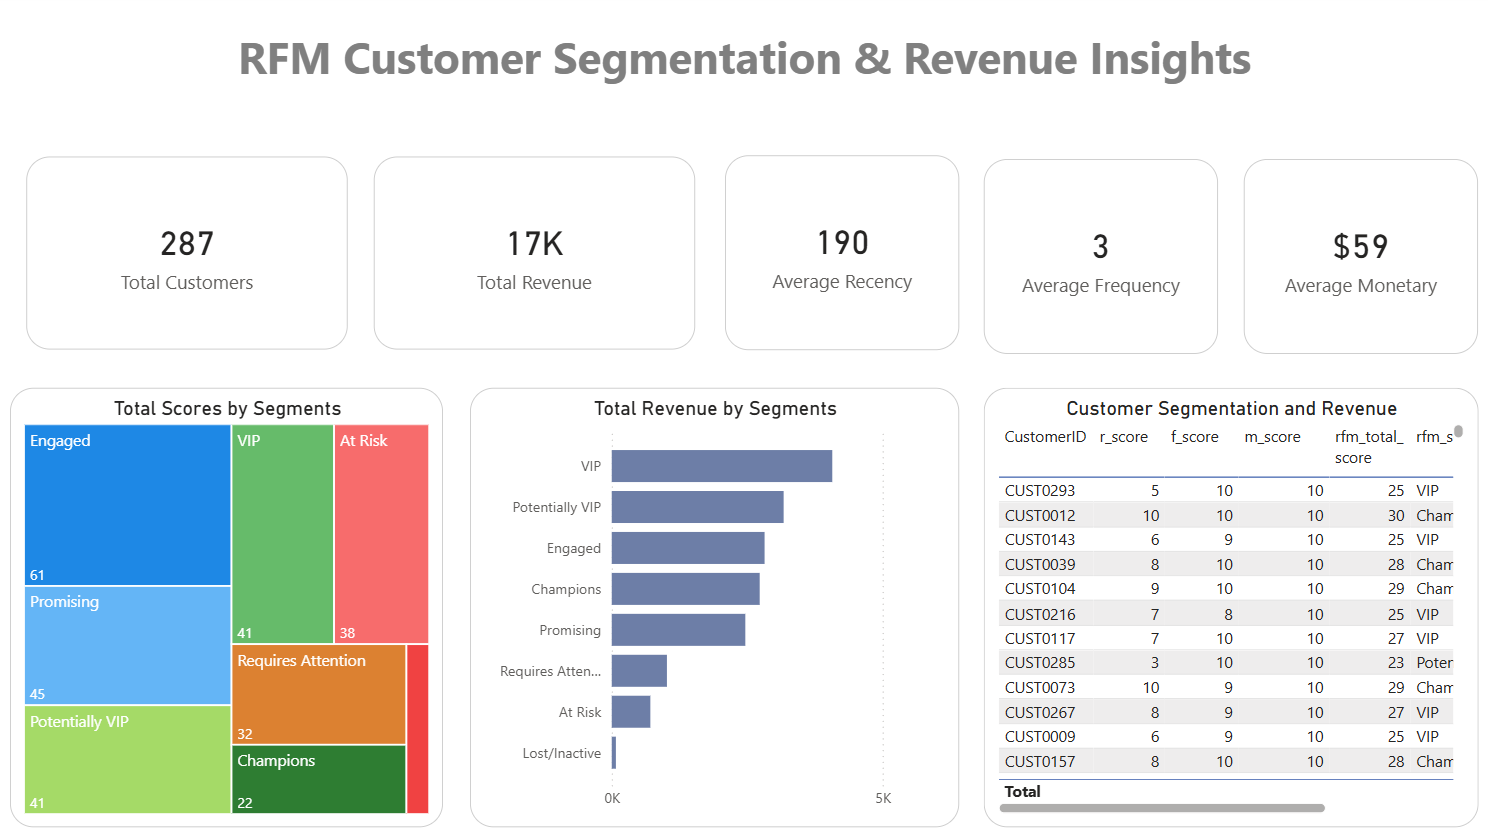

The page's visual inventory and layout, read from the dashboard file:
{"tool":"powerbi","page":{"name":"RFM Insights","canvas":[1280,720],"ordinal":0},"visuals":[{"type":"card","fields":{"Values":["rfm_final.total_customers"]},"box":[26.7,138.4,274.4,165.1],"z":0},{"type":"treemap","title":"Total Scores by Segments","fields":{"Group":["rfm_final.rfm_segment"],"Values":["CountNonNull(rfm_final.rfm_total_score)"]},"box":[12.8,336,369.8,375.6],"z":1000},{"type":"card","fields":{"Values":["rfm_final.avg_recency"]},"box":[623.3,137.2,200,166.3],"z":2000},{"type":"card","fields":{"Values":["rfm_final.avg_frequency"]},"box":[844.2,140.7,200,166.3],"z":3000},{"type":"card","fields":{"Values":["rfm_final.avg_monetary"]},"box":[1066.3,140.7,200,166.3],"z":4000},{"type":"clusteredBarChart","title":"Total Revenue by Segments","fields":{"Y":["rfm_final.Total Revenue"],"Category":["rfm_final.rfm_segment"]},"box":[405.8,336,417.4,375.6],"z":5000},{"type":"textbox","box":[12.3,23.3,1254.2,61.7],"z":6000},{"type":"tableEx","title":"Customer Segmentation and Revenue","fields":{"Values":["rfm_final.CustomerID","rfm_final.r_score","rfm_final.f_score","rfm_final.m_score","rfm_final.rfm_total_score","rfm_final.rfm_segment","rfm_final.Total Revenue"]},"box":[844.2,336,422.1,375.6],"z":7000},{"type":"card","fields":{"Values":["rfm_final.Total Revenue"]},"box":[323.3,138.4,274.4,165.1],"z":8000}]}

Visuals, with their boxes in screenshot pixels (x1, y1, x2, y2), scaled from the page's 1280x720 canvas onto the 1488x833 screenshot:
card - rfm_final.total_customers: 31/160/350/351
"Total Scores by Segments" treemap: 15/389/445/823
card - rfm_final.avg_recency: 725/159/957/351
card - rfm_final.avg_frequency: 981/163/1214/355
card - rfm_final.avg_monetary: 1240/163/1472/355
"Total Revenue by Segments" clusteredBarChart: 472/389/957/823
textbox: 14/27/1472/98
"Customer Segmentation and Revenue" tableEx: 981/389/1472/823
card - rfm_final.Total Revenue: 376/160/695/351
